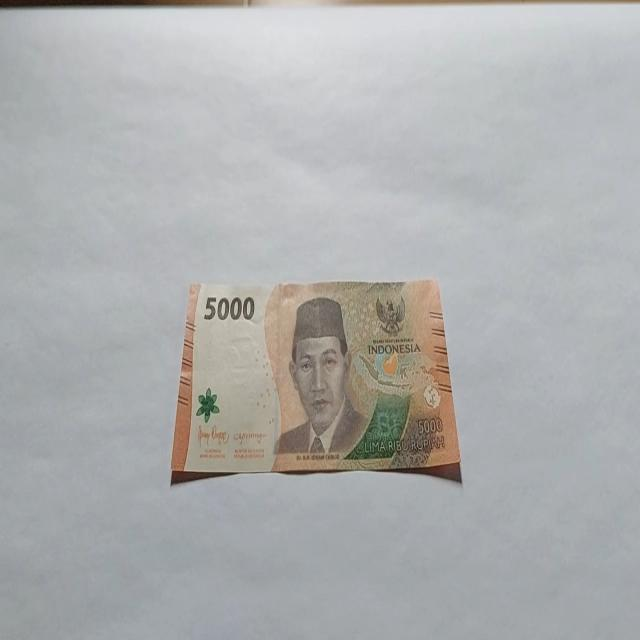lima ribu rupiah: (170, 276, 462, 486), (270, 295, 370, 461)
